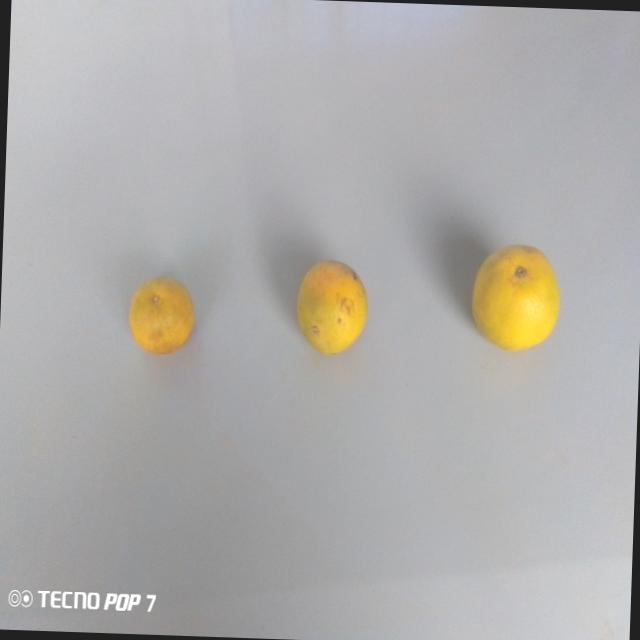agrume: (469, 234, 567, 356), (118, 257, 203, 367), (289, 254, 370, 367)
